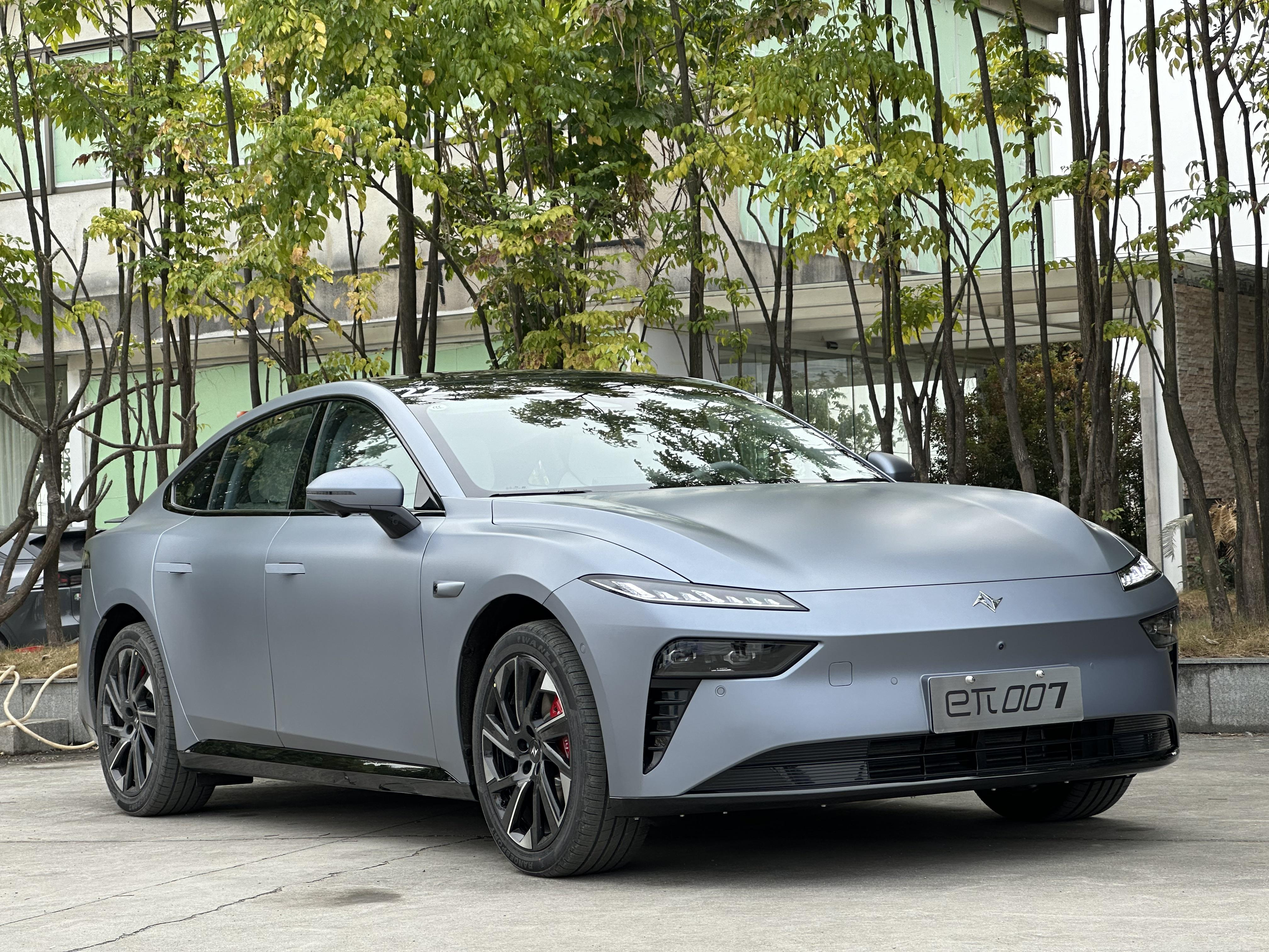other: (68, 386, 1178, 852)
